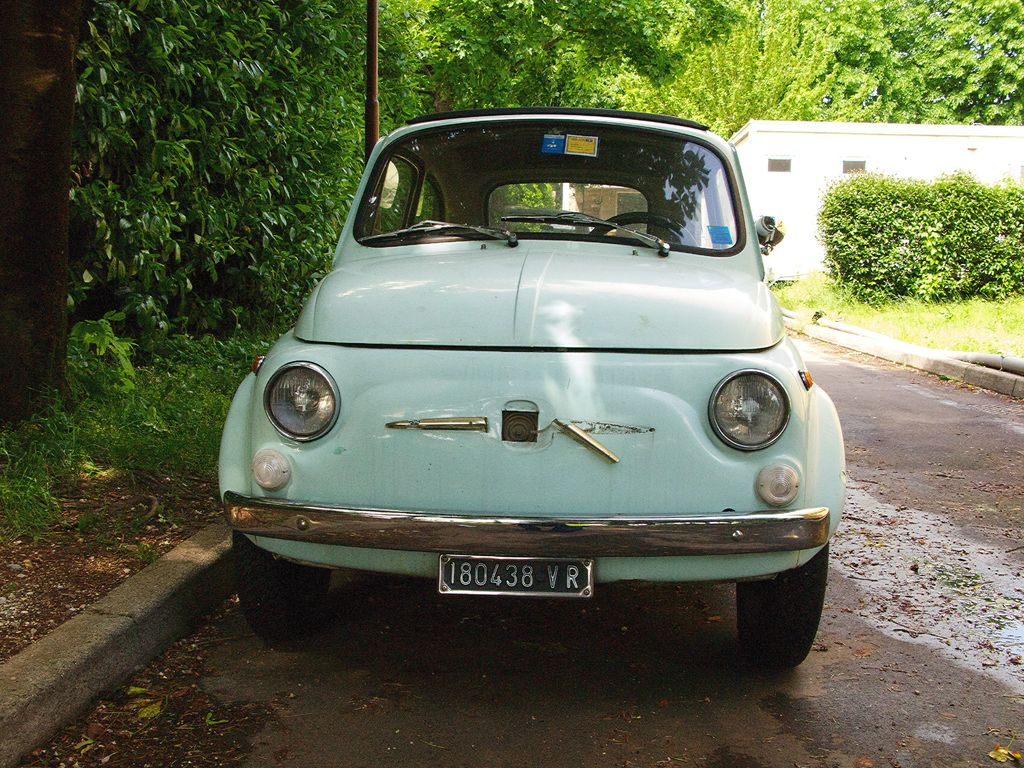Tree: (0, 0, 1024, 429)
